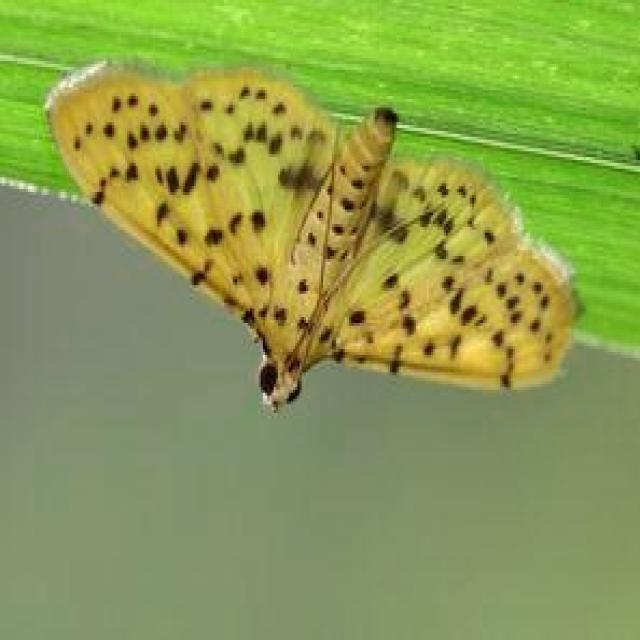peach borer: (33, 55, 591, 424)
